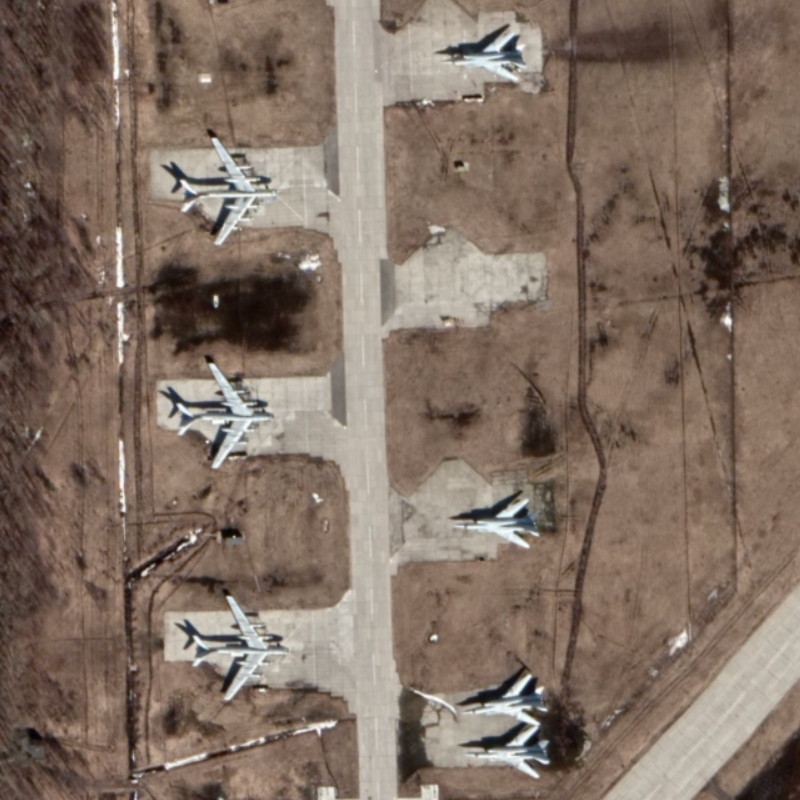A12: (460, 672, 550, 728), (464, 724, 552, 781), (451, 496, 542, 551), (440, 29, 530, 84)
A17: (178, 135, 281, 248), (190, 592, 292, 703), (175, 360, 276, 470)
